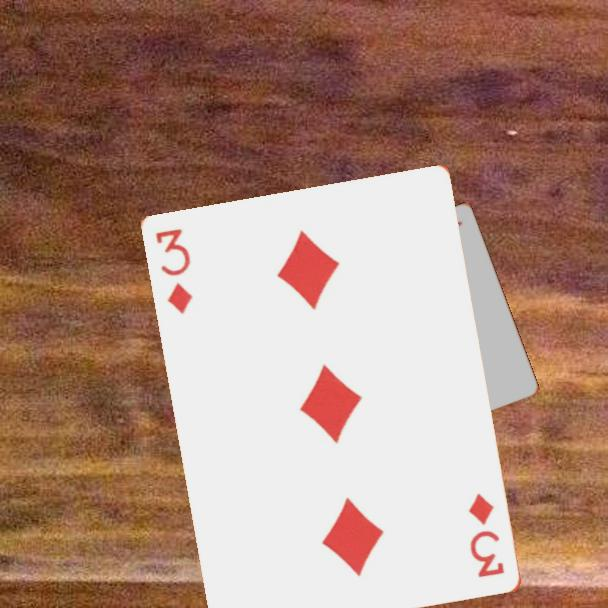d03: (152, 225, 196, 317), (465, 490, 508, 581)
